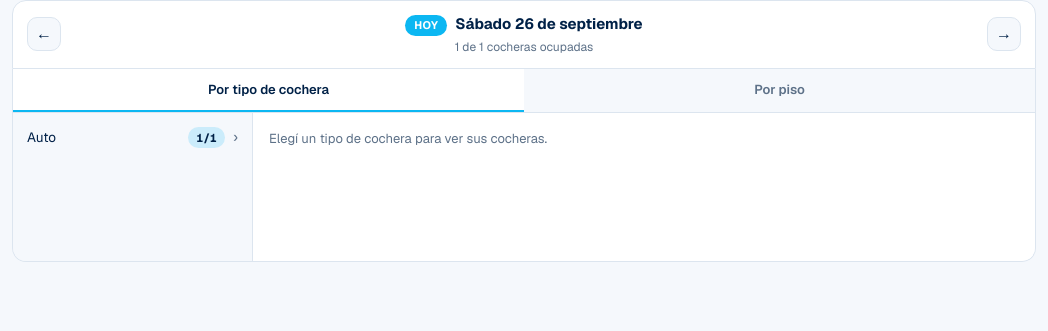
Test case: OcupacionCocheras: el detalle › muestra patente, horario, modalidad y mail de cada ocupación
Click the button "Auto 1/1 ›".
click(132, 137)  # box x1=13 y1=113 x2=252 y2=162
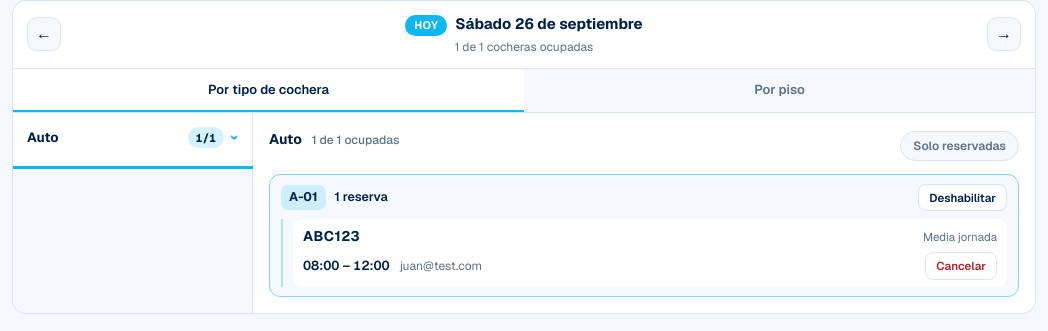
expect the text "ABC123" is shown: met, box x1=303 y1=226 x2=360 y2=247
expect the text "08:00 – 12:00" is shown: met, box x1=303 y1=256 x2=390 y2=276
expect the text "Media jornada" is shown: met, box x1=923 y1=228 x2=997 y2=246
